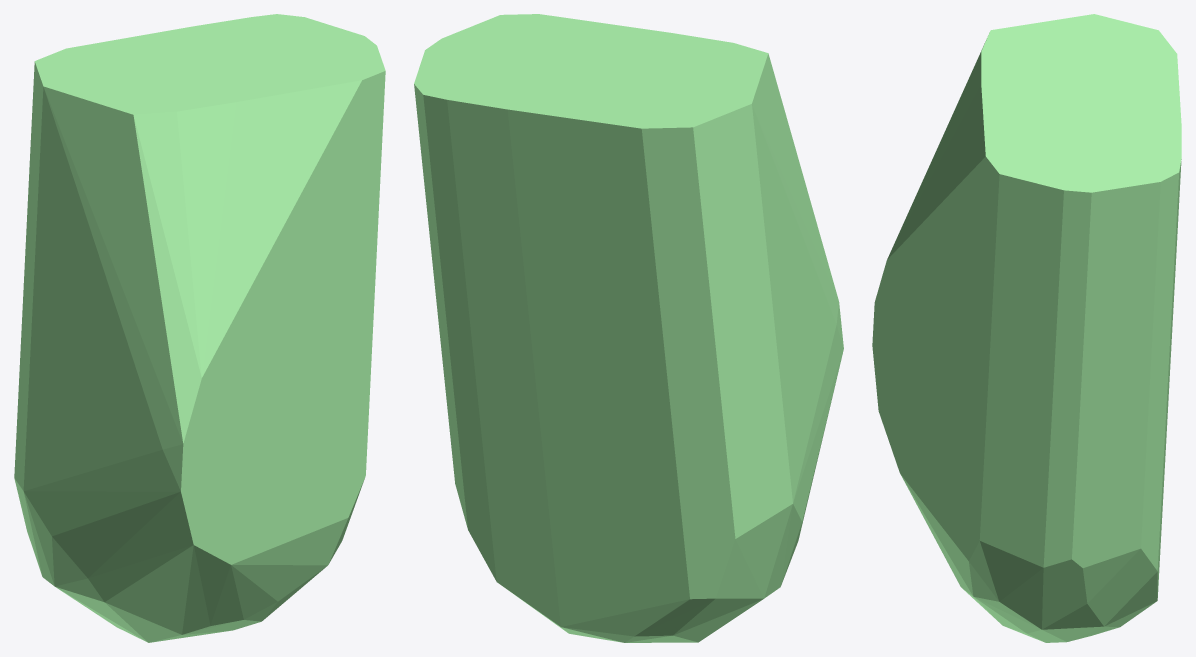
The model's file is dvkr_robot_L_link5_respondable_coll_4.dae.
The picture shows the model from 3 angles, left to right: view 1: azimuth 30°, elevation 25°; view 2: azimuth 150°, elevation 25°; view 3: azimuth 270°, elevation 25°; orthographic projection. The views are drawn at different scales.
Visible parts, largest first — view 1: Node_0000023514CDA040; view 2: Node_0000023514CDA040; view 3: Node_0000023514CDA040.
Part boxes in pixels (<box>): Node_0000023514CDA040: <box>14,14,385,642</box>; Node_0000023514CDA040: <box>414,14,843,642</box>; Node_0000023514CDA040: <box>872,14,1181,642</box>.
Size of the model in its own units: 0.0944 by 0.1441 by 0.074.
